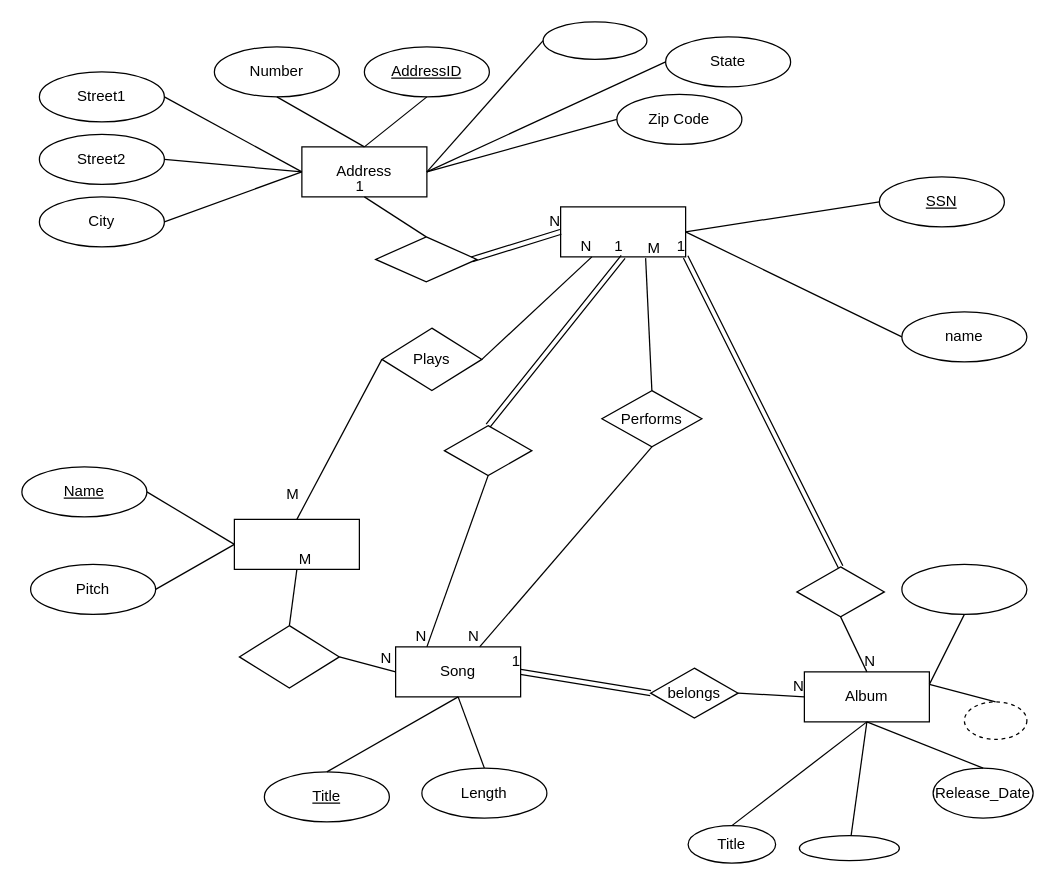
Some shapes in this 1055 by 885 pixel diagram are drawn without their labels. The shapes that lost their labels are listed below. From the top down, each one's centre as x and y in pixels, then its label:
At (594,40): "Telephone".
At (622,231): "Musician".
At (425,259): "Lives".
At (487,450): "author".
At (296,543): "Instrument".
At (840,591): "produce".
At (964,588): "AlbumID".
At (288,656): "uses".
At (995,720): "age".
At (848,847): "Format".
